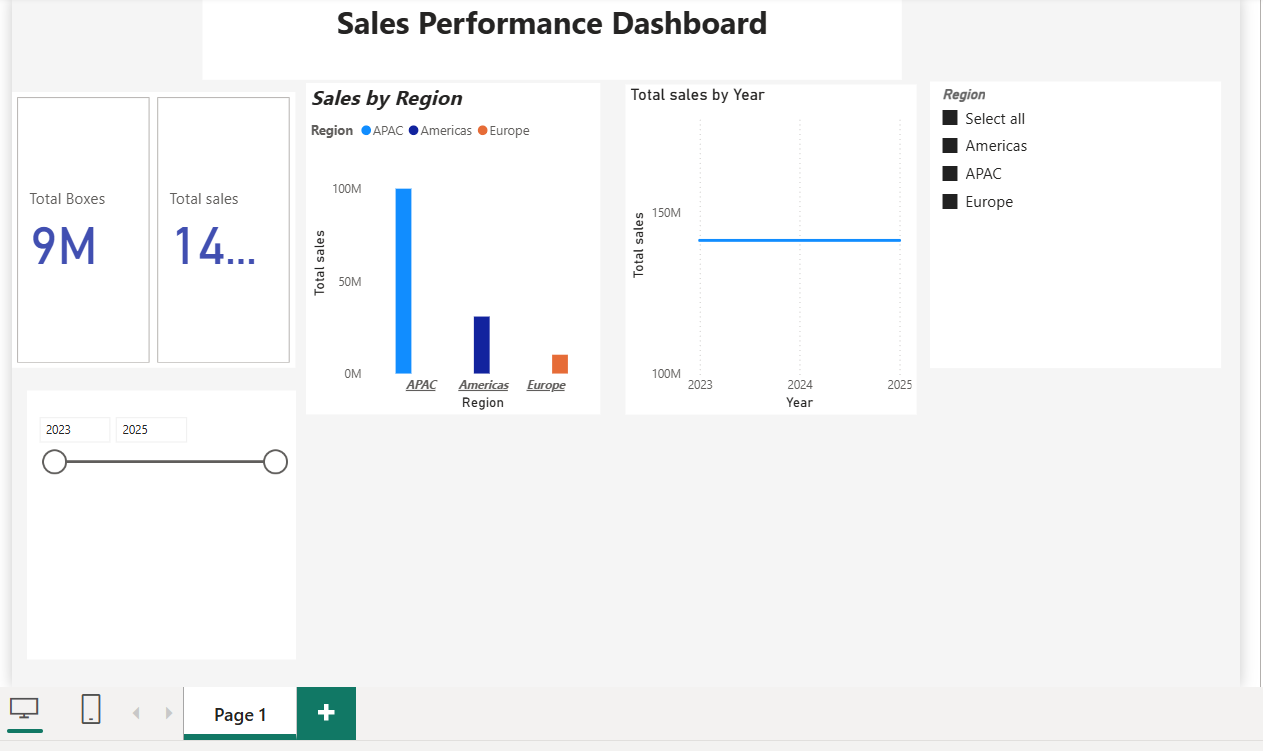

Layout of this report page (visuals, bound fields, positions):
{"tool":"powerbi","page":{"name":"Page 1","canvas":[1280,720],"ordinal":0},"visuals":[{"type":"cardVisual","fields":{"Data":["Calendar.Total Boxes","Calendar.Total sales"]},"box":[0,100,295.4,287.6],"z":0},{"type":"clusteredColumnChart","title":"Sales by Region","fields":{"Category":["locations.Region"],"Y":["Calendar.Total sales"],"Series":["locations.Region"]},"box":[306.3,90.7,306.3,345.4],"z":1000},{"type":"lineChart","fields":{"Category":["Calendar.cal_date.Variation.Date Hierarchy.Year","Calendar.cal_date.Variation.Date Hierarchy.Quarter","Calendar.cal_date.Variation.Date Hierarchy.Month","Calendar.cal_date.Variation.Date Hierarchy.Day"],"Y":["Calendar.Total sales"]},"box":[639.3,92.2,303.2,343.9],"z":2000},{"type":"slicer","fields":{"Values":["locations.Region"]},"box":[956.5,89.1,303.2,298.5],"z":3000},{"type":"slicer","fields":{"Values":["Calendar.year"]},"box":[15.6,411.1,279.8,279.8],"z":4000},{"type":"textbox","box":[198.8,0,728.5,87.5],"z":4001}]}

Visuals, with their boxes on the page's 1280x720 design canvas (x1, y1, x2, y2). These are canvas units, not pixel positions in the 1263x751 screenshot, which may show the page scaled, cropped or inside an application window:
cardVisual - Calendar.Total Boxes x Calendar.Total sales: l=0, t=100, r=295, b=388
"Sales by Region" clusteredColumnChart: l=306, t=91, r=613, b=436
lineChart - Calendar.cal_date.Variation.Date Hierarchy.Year x Calendar.cal_date.Variation.Date Hierarchy.Quarter: l=639, t=92, r=942, b=436
slicer - locations.Region: l=956, t=89, r=1260, b=388
slicer - Calendar.year: l=16, t=411, r=295, b=691
textbox: l=199, t=0, r=927, b=88
